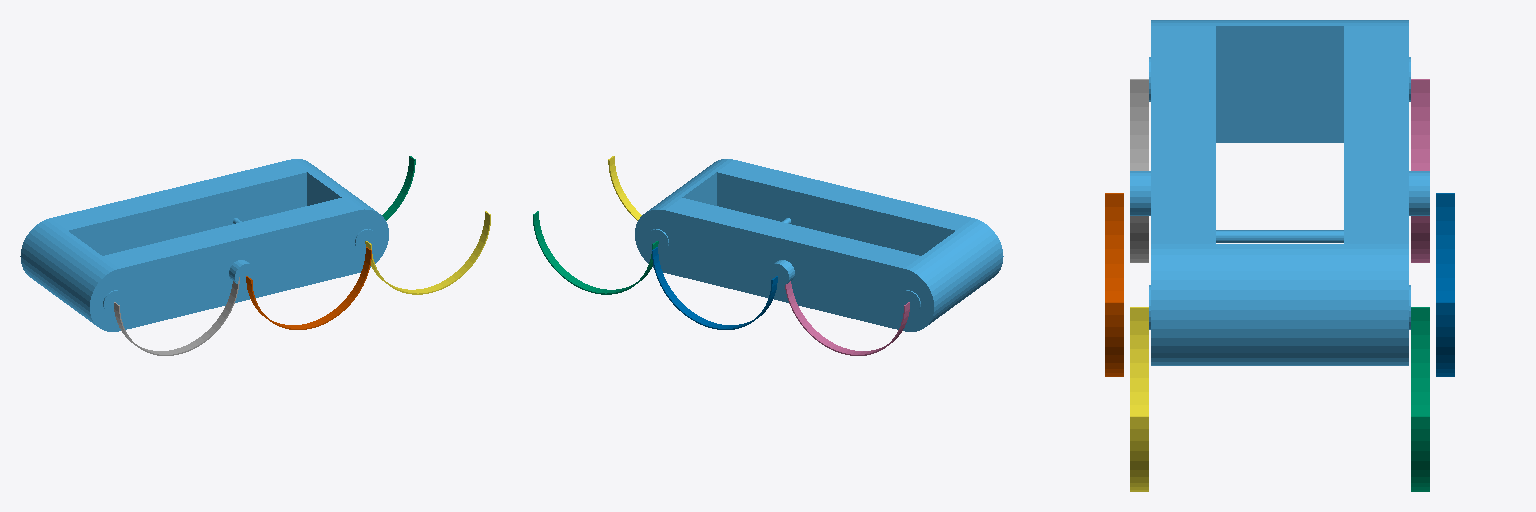
The robot description file, URDF, robot "arhex":
<?xml version='1.0'?>
<robot name="arhex">
  <link name="footprint" />

  <link name="chassis">
    <inertial>
      <mass value="1"/>
      <origin rpy="0 0 0" xyz="0 0 0.1"/>
      <inertia ixx="0.004167" ixy="0" ixz="0" iyy="0.030833" iyz="0" izz="0.03333"/>
    </inertial>
    <collision name="chassis_collision">
      <origin rpy="0 0 0" xyz="0 0 0.1"/>
      <geometry>              
        <!--box size= ".6 .2 .1"/-->
        <mesh filename="package://arhex_description/meshes/modeel.stl"/>                		
      </geometry>
    </collision>
    <visual name="left_wheel_front_visual">
      <origin rpy="0 0 0" xyz="0 0 0.1"/>
      <geometry>
        <!--box size= ".6 .2 .1"/-->
        <mesh filename="package://arhex_description/meshes/modeel.stl"/>
      </geometry>
    </visual>          
  </link>

  <joint name="base_joint" type="fixed">
    <parent link="footprint"/>
    <child link="chassis"/>
  </joint>

  <link name="left_wheel_front">
    <inertial>
      <mass value="0.2"/>
      <origin rpy="0 1.5707 1.5707" xyz="0 0 0"/>
      <inertia ixx="0.000526666666667" ixy="0" ixz="0" iyy="0.000526666666667" iyz="0" izz="0.001"/>
    </inertial>
    <collision name="left_wheel_front_collision">
      <origin rpy="0 1.5707 1.5707" xyz="0 0 0"/>
      <geometry>              
        <!-- cylinder length="0.05" radius="0.1"/-->
        <mesh filename="package://arhex_description/meshes/leg.stl"/>                		
      </geometry>
    </collision>
    <visual name="left_wheel_front_visual">
      <origin rpy="0 1.5707 1.5707" xyz="0 0 0"/>
      <geometry>
        <!-- cylinder length="0.05" radius="0.1"/-->
        <mesh filename="package://arhex_description/meshes/leg.stl"/>        
      </geometry>
    </visual>          
  </link>

  <link name="right_wheel_front">
    <inertial>
      <mass value="0.2"/>
      <origin rpy="0 1.5707 1.5707" xyz="0 0 0"/>
      <inertia ixx="0.000526666666667" ixy="0" ixz="0" iyy="0.000526666666667" iyz="0" izz="0.001"/>
    </inertial>
    <collision name="right_wheel_front_collision">
      <origin rpy="0 1.5707 1.5707" xyz="0 0 0"/>
      <geometry>              
        <!-- cylinder length="0.05" radius="0.1"/-->
        <mesh filename="package://arhex_description/meshes/leg.stl"/>                		
      </geometry>
    </collision>
    <visual name="right_wheel_front_visual">
      <origin rpy="0 1.5707 1.5707" xyz="0 0 0"/>
      <geometry>
        <!-- cylinder length="0.05" radius="0.1"/-->
        <mesh filename="package://arhex_description/meshes/leg.stl"/>        
      </geometry>
    </visual>          
  </link>

  <link name="left_wheel_mid">
    <inertial>
      <mass value="0.2"/>
      <origin rpy="0 1.5707 1.5707" xyz="0 0 0"/>
      <inertia ixx="0.000526666666667" ixy="0" ixz="0" iyy="0.000526666666667" iyz="0" izz="0.001"/>
    </inertial>
    <collision name="left_wheel_mid_collision">
      <origin rpy="0 1.5707 1.5707" xyz="0 0 0"/>
      <geometry>              
        <!-- cylinder length="0.05" radius="0.1"/-->
        <mesh filename="package://arhex_description/meshes/leg.stl"/>                		
      </geometry>
    </collision>
    <visual name="left_wheel_mid_visual">
      <origin rpy="0 1.5707 1.5707" xyz="0 0 0"/>
      <geometry>
        <!-- cylinder length="0.05" radius="0.1"/-->
        <mesh filename="package://arhex_description/meshes/leg.stl"/>        
      </geometry>
    </visual>          
  </link>

  <link name="right_wheel_mid">
    <inertial>
      <mass value="0.2"/>
      <origin rpy="0 1.5707 1.5707" xyz="0 0 0"/>
      <inertia ixx="0.000526666666667" ixy="0" ixz="0" iyy="0.000526666666667" iyz="0" izz="0.001"/>
    </inertial>
    <collision name="right_wheel_mid_collision">
      <origin rpy="0 1.5707 1.5707" xyz="0 0 0"/>
      <geometry>              
        <!-- cylinder length="0.05" radius="0.1"/-->
        <mesh filename="package://arhex_description/meshes/leg.stl"/>                		
      </geometry>
    </collision>
    <visual name="right_wheel_mid_visual">
      <origin rpy="0 1.5707 1.5707" xyz="0 0 0"/>
      <geometry>
        <!-- cylinder length="0.05" radius="0.1"/-->
        <mesh filename="package://arhex_description/meshes/leg.stl"/>        
      </geometry>
    </visual>          
  </link>   

  <link name="left_wheel_back">
    <inertial>
      <mass value="0.2"/>
      <origin rpy="0 1.5707 1.5707" xyz="0 0 0"/>
      <inertia ixx="0.000526666666667" ixy="0" ixz="0" iyy="0.000526666666667" iyz="0" izz="0.001"/>
    </inertial>
    <collision name="left_wheel_back_collision">
      <origin rpy="0 1.5707 1.5707" xyz="0 0 0"/>
      <geometry>              
        <!-- cylinder length="0.05" radius="0.1"/-->
        <mesh filename="package://arhex_description/meshes/leg.stl"/>                		
      </geometry>
    </collision>
    <visual name="left_wheel_back_visual">
      <origin rpy="0 1.5707 1.5707" xyz="0 0 0"/>
      <geometry>
        <!-- cylinder length="0.05" radius="0.1"/-->       
        <mesh filename="package://arhex_description/meshes/leg.stl"/>
      </geometry>
    </visual>          
  </link>  

  <link name="right_wheel_back">
    <inertial>
      <mass value="0.2"/>
      <origin rpy="0 1.5707 1.5707" xyz="0 0 0"/>
      <inertia ixx="0.000526666666667" ixy="0" ixz="0" iyy="0.000526666666667" iyz="0" izz="0.001"/>
    </inertial>
    <collision name="right_wheel_back_collision">
      <origin rpy="0 1.5707 1.5707" xyz="0 0 0"/>
      <geometry>              
        <!-- cylinder length="0.05" radius="0.1"/-->               		
        <mesh filename="package://arhex_description/meshes/leg.stl"/>
      </geometry>
    </collision>
    <visual name="right_wheel_back_visual">
      <origin rpy="0 1.5707 1.5707" xyz="0 0 0"/>
      <geometry>
        <!-- cylinder length="0.05" radius="0.1"/-->       
        <mesh filename="package://arhex_description/meshes/leg.stl"/>
      </geometry>
    </visual>          
  </link>

<!--   <link name="link_1">
    <inertial>
      <mass value="0.2"/>
      <origin rpy="0 1.5707 1.5707" xyz="0 0 0"/>
      <inertia ixx="0.000526666666667" ixy="0" ixz="0" iyy="0.000526666666667" iyz="0" izz="0.001"/>
    </inertial>
    <collision name="link_1_collision">
      <origin rpy="0 1.5707 1.5707" xyz="0 0 0"/>
      <geometry>              
                      		
        <mesh filename="package://arhex_description/meshes/link_1.stl"/>
      </geometry>
    </collision>
    <visual name="link_1_visual">
      <origin rpy="0 1.5707 1.5707" xyz="0 0 0"/>
      <geometry>
               
        <mesh filename="package://arhex_description/meshes/link_1.stl"/>
      </geometry>
    </visual>          
  </link>

  <joint name="link_1_base" type="revolute">
    <origin rpy="0 0 0" xyz="0.075 0 0.1"/>
    <child link="link_1"/>
    <parent link="chassis"/>
    <axis rpy="0 0 0" xyz="0 1 0"/>
    <limit effort="10000" velocity="1000"/>
    <joint_properties damping="1.0" friction="1.0"/>
  </joint> -->

  <joint name="left_wheel_hinge_front" type="continuous">
    <origin rpy="0 0 0" xyz="0.21 0.1095 0.1"/>
    <child link="left_wheel_front"/>
    <parent link="chassis"/>
    <axis rpy="0 0 0" xyz="0 1 0"/>
    <limit effort="10000" velocity="1000"/>
    <joint_properties damping="1.0" friction="1.0"/>
  </joint>

  <joint name="right_wheel_hinge_front" type="continuous">
    <origin rpy="0 0 0" xyz="0.21 -0.1095 0.1"/>
    <child link="right_wheel_front"/>
    <parent link="chassis"/>
    <axis rpy="0 0 0" xyz="0 1 0"/>
    <limit effort="10000" velocity="1000"/>
    <joint_properties damping="1.0" friction="1.0"/>
  </joint>

  <joint name="left_wheel_hinge_mid" type="continuous">
    <origin rpy="0 0 0" xyz="0 0.1285 0.1"/>
    <child link="left_wheel_mid"/>
    <parent link="chassis"/>
    <axis rpy="0 0 0" xyz="0 1 0"/>
    <limit effort="10000" velocity="1000"/>
    <joint_properties damping="1.0" friction="1.0"/>
  </joint>

  <joint name="right_wheel_hinge_mid" type="continuous">
    <origin rpy="0 0 0" xyz="0 -0.1285 0.1"/>
    <child link="right_wheel_mid"/>
    <parent link="chassis"/>
    <axis rpy="0 0 0" xyz="0 1 0"/>
    <limit effort="10000" velocity="1000"/>
    <joint_properties damping="1.0" friction="1.0"/>
  </joint>

  <joint name="left_wheel_hinge_back" type="continuous">
    <origin rpy="0 0 0" xyz="-0.21 0.1095 0.1"/>
    <child link="left_wheel_back"/>
    <parent link="chassis"/>
    <axis rpy="0 0 0" xyz="0 1 0"/>
    <limit effort="10000" velocity="1000"/>
    <joint_properties damping="1.0" friction="1.0"/>
  </joint>

  <joint name="right_wheel_hinge_back" type="continuous">
    <origin rpy="0 0 0" xyz="-0.21 -0.1095 0.1"/>
    <child link="right_wheel_back"/>
    <parent link="chassis"/>
    <axis rpy="0 0 0" xyz="0 1 0"/>
    <limit effort="10000" velocity="1000"/>
    <joint_properties damping="1.0" friction="1.0"/>
  </joint>
	
  <transmission name="tran1">
    <type>transmission_interface/SimpleTransmission</type>
    <joint name="left_wheel_hinge_front">
      <hardwareInterface>hardware_interface/EffortJointInterface</hardwareInterface>
    </joint>
    <actuator name="motor1">
      <hardwareInterface>hardware_interface/EffortJointInterface</hardwareInterface>
      <mechanicalReduction>1</mechanicalReduction>
    </actuator>
  </transmission>

  <transmission name="tran2">
    <type>transmission_interface/SimpleTransmission</type>
    <joint name="right_wheel_hinge_front">
      <hardwareInterface>hardware_interface/EffortJointInterface</hardwareInterface>
    </joint>
    <actuator name="motor2">
      <hardwareInterface>hardware_interface/EffortJointInterface</hardwareInterface>
      <mechanicalReduction>1</mechanicalReduction>
    </actuator>
  </transmission>

  <transmission name="tran3">
    <type>transmission_interface/SimpleTransmission</type>
    <joint name="left_wheel_hinge_mid">
      <hardwareInterface>hardware_interface/EffortJointInterface</hardwareInterface>
    </joint>
    <actuator name="motor3">
      <hardwareInterface>hardware_interface/EffortJointInterface</hardwareInterface>
      <mechanicalReduction>1</mechanicalReduction>
    </actuator>
  </transmission>

  <transmission name="tran4">
    <type>transmission_interface/SimpleTransmission</type>
    <joint name="right_wheel_hinge_mid">
      <hardwareInterface>hardware_interface/EffortJointInterface</hardwareInterface>
    </joint>
    <actuator name="motor4">
      <hardwareInterface>hardware_interface/EffortJointInterface</hardwareInterface>
      <mechanicalReduction>1</mechanicalReduction>
    </actuator>
  </transmission>

  <transmission name="tran5">
    <type>transmission_interface/SimpleTransmission</type>
    <joint name="left_wheel_hinge_back">
      <hardwareInterface>hardware_interface/EffortJointInterface</hardwareInterface>
    </joint>
    <actuator name="motor5">
      <hardwareInterface>hardware_interface/EffortJointInterface</hardwareInterface>
      <mechanicalReduction>1</mechanicalReduction>
    </actuator>
  </transmission>

  <transmission name="tran6">
    <type>transmission_interface/SimpleTransmission</type>
    <joint name="right_wheel_hinge_back">
      <hardwareInterface>hardware_interface/EffortJointInterface</hardwareInterface>
    </joint>
    <actuator name="motor6">
      <hardwareInterface>hardware_interface/EffortJointInterface</hardwareInterface>
      <mechanicalReduction>1</mechanicalReduction>
    </actuator>
  </transmission>
  <gazebo>
		<plugin name="gazebo_ros_control" filename="libgazebo_ros_control.so">
		  <robotNamespace>/arhex</robotNamespace>
		</plugin>
	</gazebo>
</robot>

--- Render facts (derived) ---
3 views of the same robot in one strip: view 1: azimuth 30°, elevation 25°; view 2: azimuth 150°, elevation 25°; view 3: azimuth 270°, elevation 25° (orthographic).
Robot: arhex — 8 links, 7 joints (6 continuous, 1 fixed); root link footprint; default pose: every joint at zero.
Visible links, largest first — view 1: chassis, right_wheel_mid, right_wheel_back, right_wheel_front; view 2: chassis, left_wheel_mid, left_wheel_back, left_wheel_front; view 3: chassis, left_wheel_front, right_wheel_front, left_wheel_mid, right_wheel_mid, left_wheel_back, right_wheel_back.
Boxes of the visible links, x1,y1,x2,y2 form: chassis: [20, 159, 388, 331]; right_wheel_mid: [246, 247, 371, 329]; right_wheel_back: [114, 277, 239, 355]; right_wheel_front: [365, 211, 490, 294]; chassis: [635, 159, 1003, 331]; left_wheel_mid: [652, 247, 777, 329]; left_wheel_back: [785, 281, 909, 355]; left_wheel_front: [533, 211, 658, 294]; chassis: [1130, 20, 1429, 365]; left_wheel_front: [1411, 307, 1429, 491]; right_wheel_front: [1130, 307, 1148, 491]; left_wheel_mid: [1436, 193, 1454, 376]; right_wheel_mid: [1105, 193, 1123, 376]; left_wheel_back: [1411, 79, 1429, 262]; right_wheel_back: [1130, 79, 1148, 262].
Bounding box of the posed robot: 0.661 × 0.272 × 0.1509 m (x, y, z).
7 mesh visuals loaded from 2 distinct referenced files (2 binary STL).